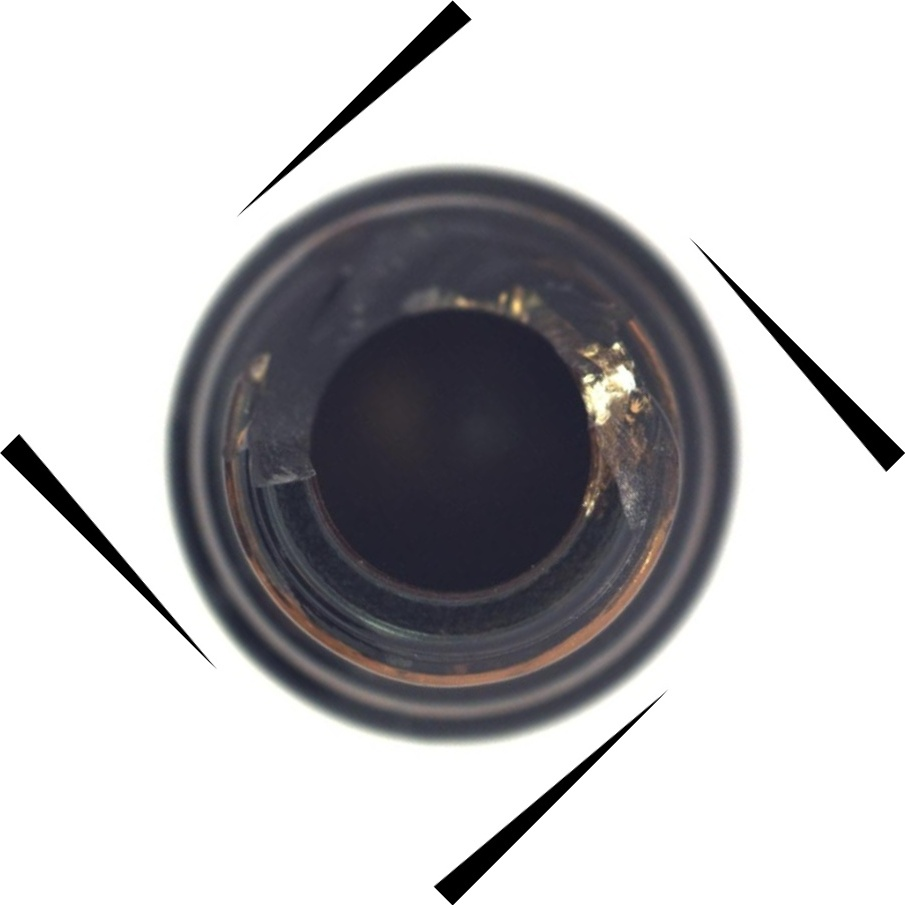bad-broken_large: (44, 41, 864, 863)
